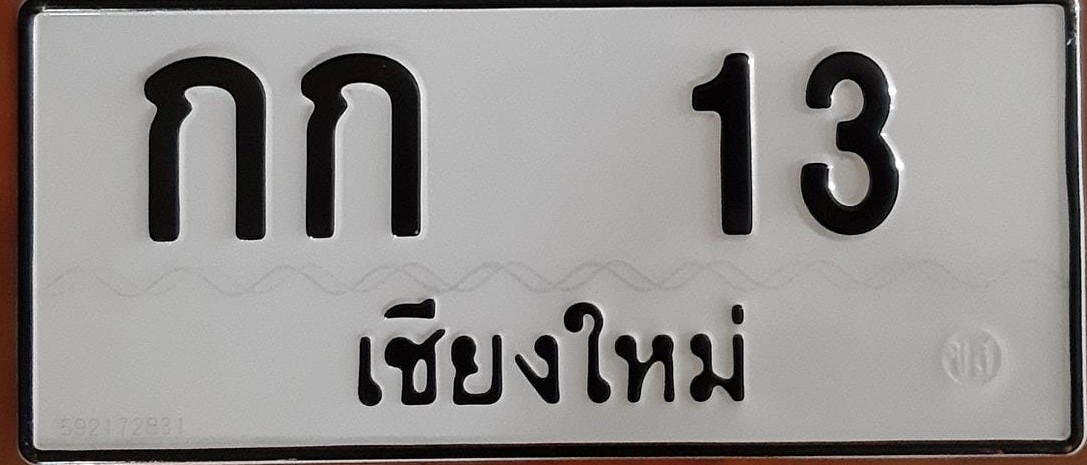txt01: (138, 52, 277, 246), (294, 48, 431, 243)
